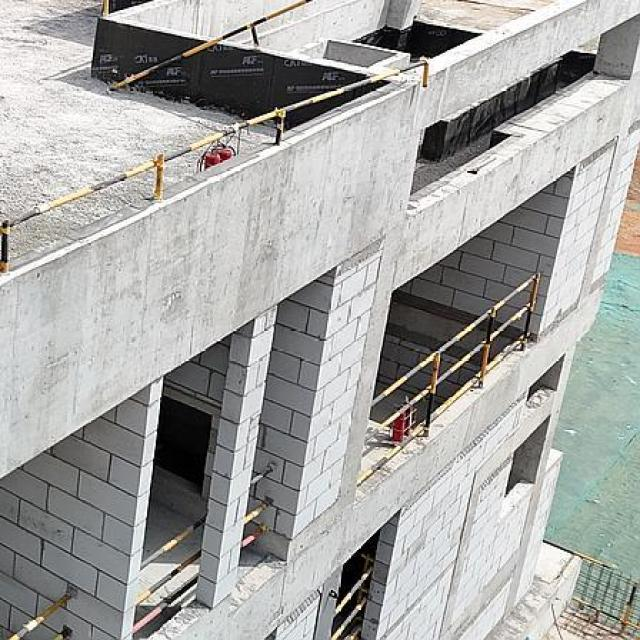Guardrail: (0, 55, 429, 272), (356, 271, 541, 486), (105, 0, 312, 94), (132, 515, 207, 639), (331, 565, 374, 640), (9, 592, 75, 639), (242, 464, 277, 550)
